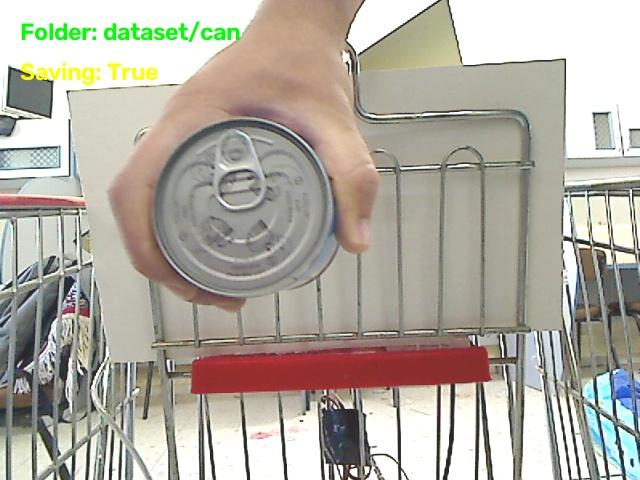can: (153, 118, 337, 296)
